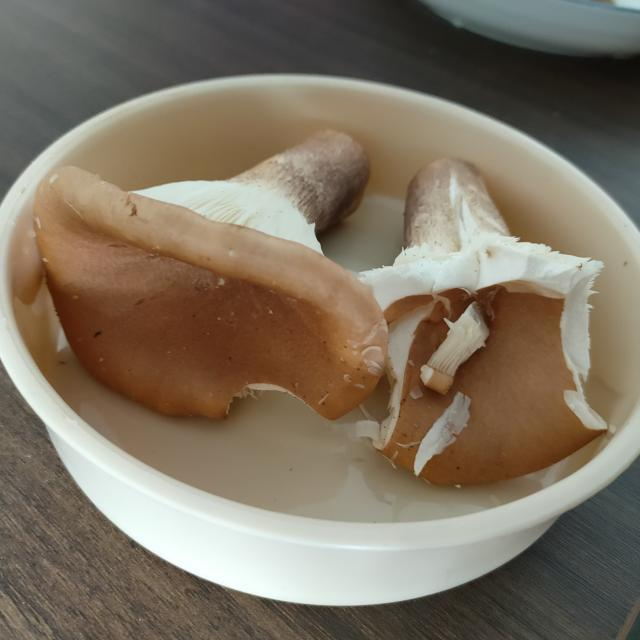Clitocybe maxima: (29, 127, 390, 427), (372, 160, 608, 486)
